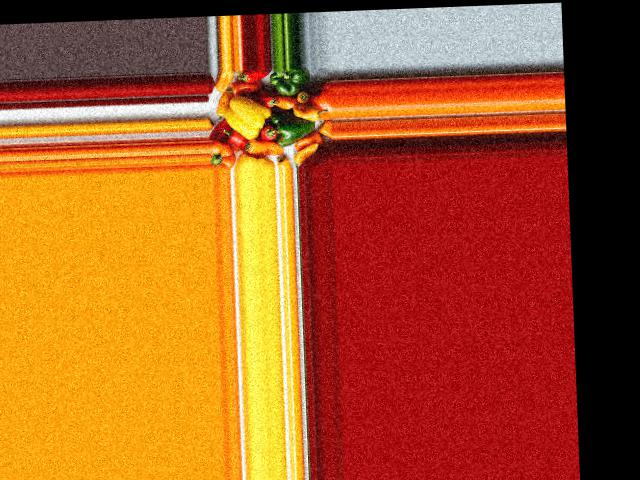bell_pepper: (235, 68, 268, 86)
